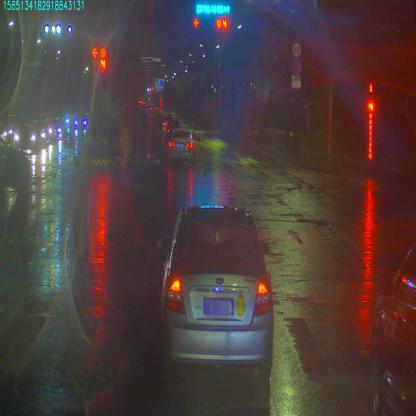traffic-light: (194, 5, 231, 17), (215, 16, 229, 32), (193, 16, 199, 28)
